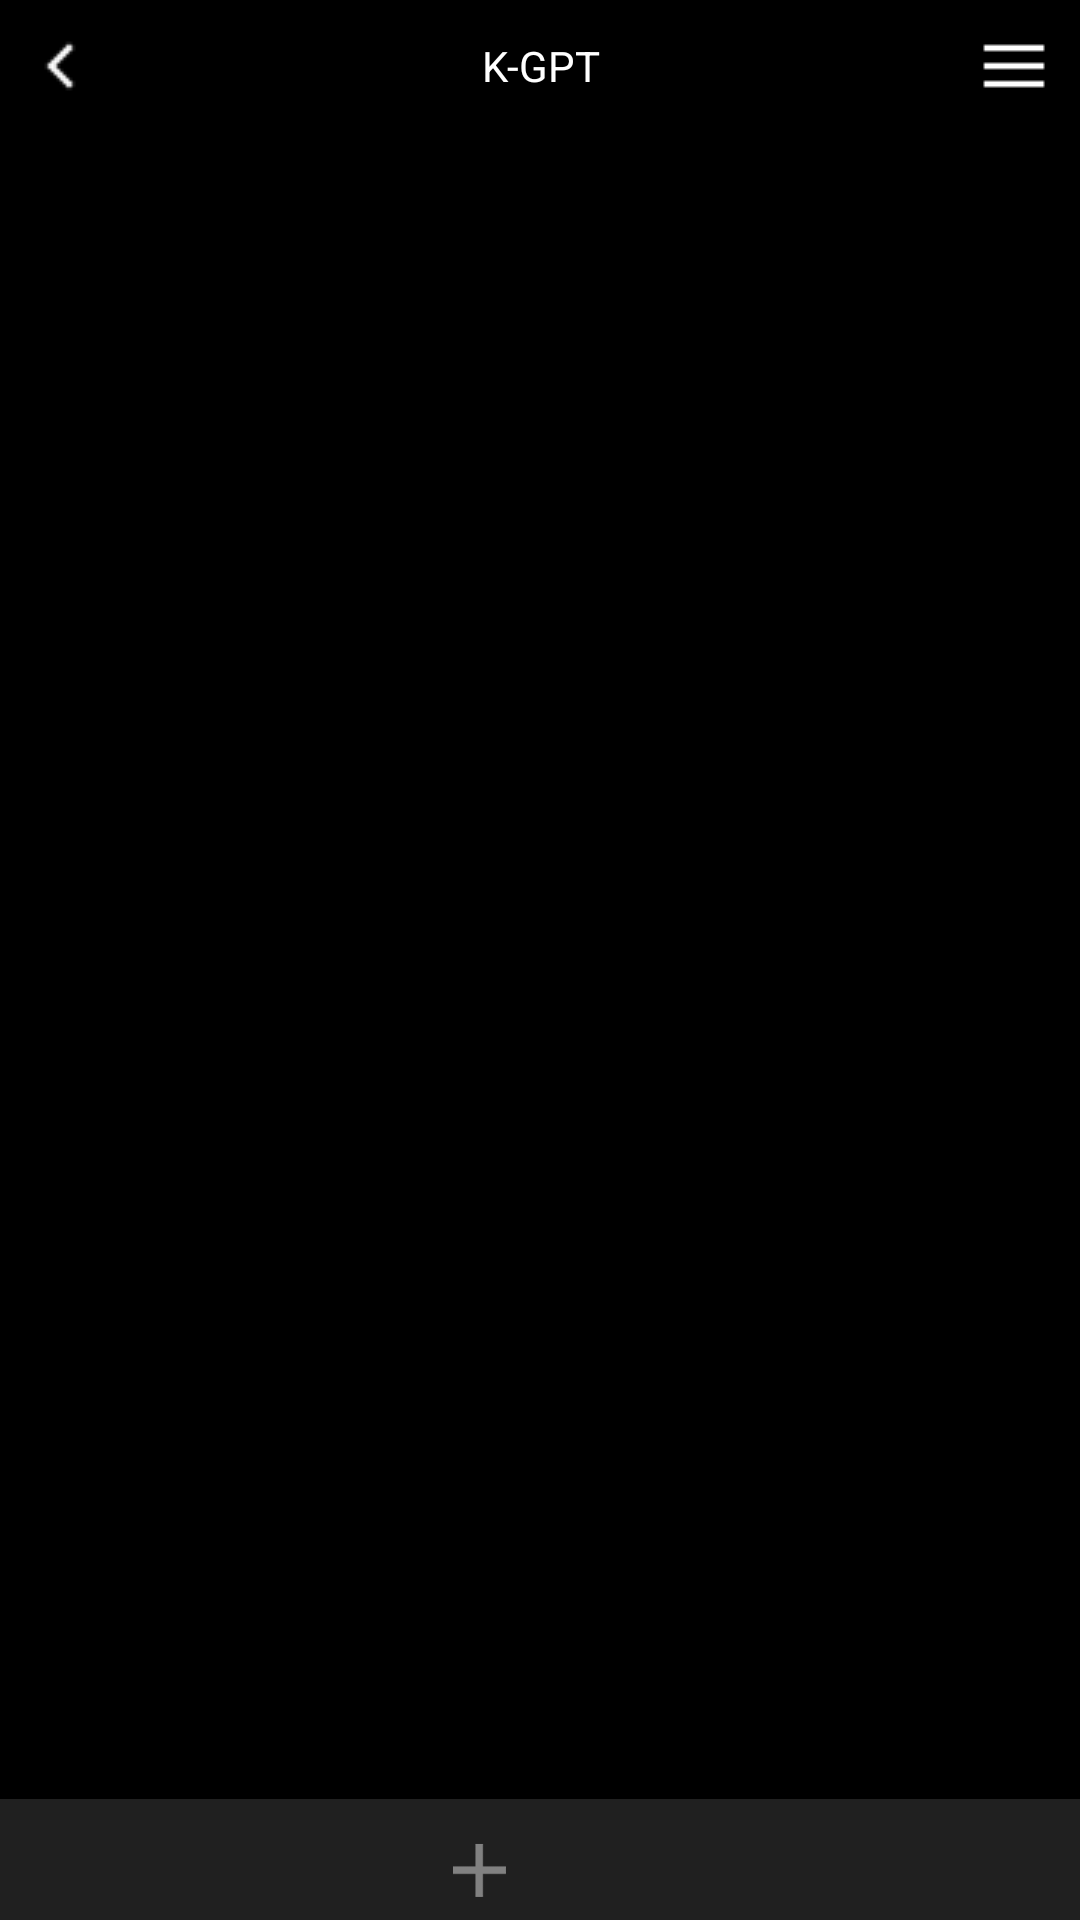

Where to tap for icons on this 1080 x 1920 app screen, as point (x, y):
chevronleft: point (60, 66)
menu: point (1014, 66)
